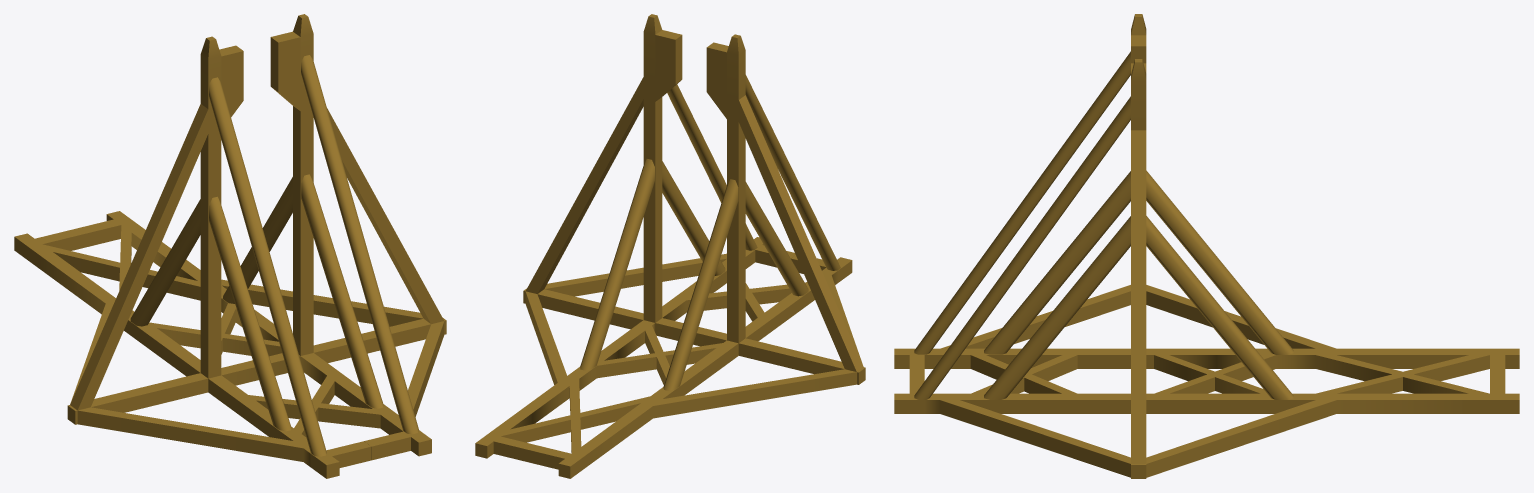
The model's file is Trabucco-01.fbx.
3 renders of one model, left to right at view 1: azimuth 30°, elevation 25°; view 2: azimuth 150°, elevation 25°; view 3: azimuth 270°, elevation 25°, orthographic. The views are drawn at different scales.
Parts seen in each view (by area): view 1: Sostegno; view 2: Sostegno; view 3: Sostegno.
Part boxes in pixels (x1,y1,x2,y2): Sostegno: [14, 14, 446, 478]; Sostegno: [475, 14, 865, 478]; Sostegno: [894, 14, 1519, 478].
Bounding box in the file's own units: 28.13 × 25.29 × 40.96.
